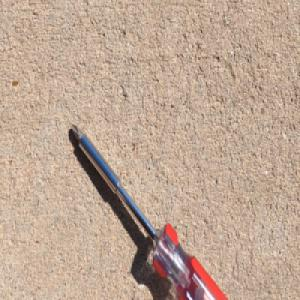Screwdriver: (70, 122, 232, 300)
